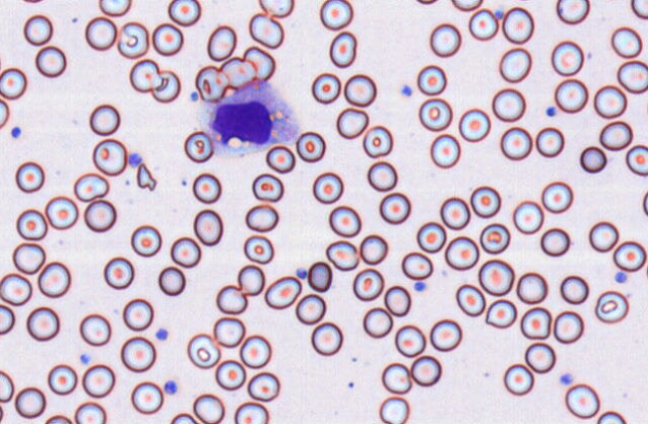MONO: (205, 88, 293, 155)
PLT: (126, 153, 143, 168), (154, 328, 171, 343), (163, 379, 178, 396), (558, 372, 576, 386), (10, 124, 23, 140), (80, 352, 94, 366), (294, 267, 308, 279), (545, 105, 558, 117), (413, 279, 425, 292), (402, 83, 413, 96), (615, 272, 627, 283)
RBC: (248, 12, 284, 49), (478, 259, 514, 296), (92, 138, 127, 176), (120, 336, 156, 372), (264, 275, 301, 309), (501, 6, 534, 44), (564, 383, 599, 418), (444, 235, 479, 270), (37, 261, 71, 297), (81, 363, 115, 398), (554, 78, 588, 113), (242, 45, 275, 81), (195, 65, 227, 102), (117, 21, 149, 58), (491, 87, 525, 121), (593, 84, 627, 118), (44, 195, 78, 229), (418, 97, 452, 131), (187, 333, 220, 368), (26, 306, 59, 341), (594, 290, 629, 323), (219, 56, 255, 88), (551, 40, 583, 76), (129, 58, 162, 92), (84, 16, 117, 50), (343, 73, 376, 107), (499, 47, 531, 82), (206, 24, 236, 61), (193, 208, 223, 245), (83, 199, 116, 232), (429, 318, 462, 351), (130, 381, 163, 414), (151, 22, 183, 56), (310, 321, 342, 355), (429, 23, 461, 57), (239, 334, 271, 368), (500, 126, 532, 160), (512, 200, 544, 234), (458, 108, 490, 142), (73, 172, 109, 202), (0, 272, 32, 305), (12, 242, 45, 274), (328, 205, 361, 237), (613, 240, 646, 272), (352, 268, 384, 301), (79, 313, 111, 346), (430, 133, 460, 168), (336, 107, 368, 139), (14, 386, 46, 418), (541, 181, 573, 213), (516, 271, 547, 304), (362, 125, 393, 158), (394, 324, 425, 357), (617, 60, 648, 93), (130, 224, 161, 257), (520, 306, 551, 339), (553, 310, 584, 343), (439, 196, 470, 229), (122, 298, 153, 331), (103, 256, 134, 289), (470, 185, 501, 218), (319, 0, 353, 30), (325, 240, 359, 270), (599, 120, 633, 150), (329, 30, 356, 67), (503, 363, 534, 395), (214, 359, 246, 390), (35, 45, 66, 77), (213, 316, 245, 347), (312, 171, 343, 203), (89, 103, 120, 135), (16, 208, 47, 240), (611, 26, 642, 58), (379, 192, 410, 224), (479, 222, 510, 254), (455, 283, 485, 316), (247, 371, 280, 401), (295, 293, 326, 324), (170, 236, 201, 267), (524, 342, 555, 373), (410, 355, 441, 386), (215, 284, 247, 314), (251, 172, 283, 202), (183, 130, 213, 162), (485, 298, 517, 328), (468, 8, 498, 40), (192, 393, 224, 423), (362, 306, 392, 338), (381, 362, 411, 394), (416, 221, 446, 253), (151, 69, 180, 102), (245, 203, 278, 232), (311, 72, 341, 103), (367, 160, 397, 191), (295, 131, 325, 162), (243, 234, 274, 264), (588, 221, 618, 252), (416, 64, 446, 95), (47, 364, 77, 395), (23, 14, 52, 45), (401, 251, 432, 280), (192, 172, 221, 203), (535, 126, 564, 157), (15, 161, 44, 192), (167, 0, 201, 26), (265, 144, 295, 173), (540, 227, 570, 256), (559, 274, 588, 304), (237, 264, 265, 295), (383, 285, 411, 316), (379, 396, 409, 424), (359, 234, 387, 264), (0, 67, 26, 99), (158, 266, 185, 296), (556, 0, 589, 24), (307, 261, 332, 292), (233, 401, 268, 423), (579, 145, 606, 173), (74, 401, 106, 424), (625, 144, 648, 175), (258, 0, 294, 18), (98, 0, 131, 16), (0, 303, 15, 334), (0, 369, 14, 402), (596, 410, 627, 424), (451, 0, 483, 11), (169, 412, 197, 424), (631, 0, 648, 19), (0, 98, 9, 128), (44, 414, 72, 423), (642, 187, 648, 217), (414, 0, 439, 5), (507, 0, 537, 3), (0, 402, 4, 423), (21, 0, 46, 3), (646, 91, 648, 120), (597, 0, 623, 2), (646, 258, 648, 283)
Schistocyte: (137, 163, 157, 191)
